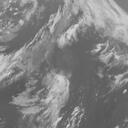cyclone: (14, 70, 72, 122)
